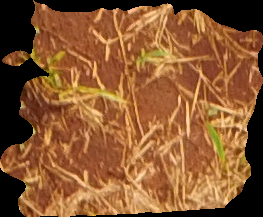soil: (1, 1, 261, 215)
